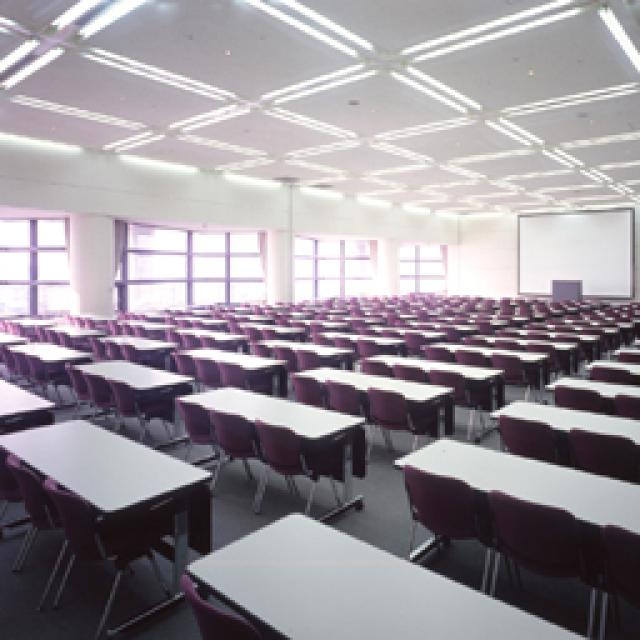2001: (115, 220, 262, 308), (0, 215, 70, 312), (292, 232, 380, 298), (392, 242, 445, 292)
ceiling beam: (0, 0, 635, 215)
ceiling lamps: (78, 42, 375, 138), (392, 0, 580, 65), (235, 0, 372, 55), (40, 0, 150, 38)
chair: (5, 452, 65, 578), (568, 425, 635, 480), (495, 412, 555, 460), (208, 408, 250, 455), (172, 395, 208, 442), (550, 380, 602, 405), (325, 375, 358, 408), (288, 375, 318, 402), (588, 362, 628, 380), (390, 360, 422, 378), (352, 358, 385, 372)
chair -occluded-: (32, 480, 170, 635), (488, 490, 595, 628), (402, 462, 488, 588), (252, 412, 312, 512), (365, 385, 410, 460), (425, 368, 468, 402)
desk calendar: (185, 510, 585, 638), (390, 435, 635, 530), (0, 418, 208, 510), (175, 385, 360, 438), (488, 400, 635, 442), (358, 348, 502, 388), (292, 365, 445, 400), (70, 358, 188, 388), (542, 372, 635, 402), (175, 342, 280, 365), (5, 340, 88, 358)
podium: (548, 278, 582, 295)
projection screen: (515, 208, 630, 295)
row of chairs: (65, 312, 215, 342), (420, 342, 525, 378), (168, 350, 242, 382), (248, 340, 318, 365), (225, 320, 275, 335)
row of desks: (258, 295, 572, 352), (422, 300, 632, 378), (235, 288, 480, 332)
rows chairs tables: (0, 290, 635, 635)
